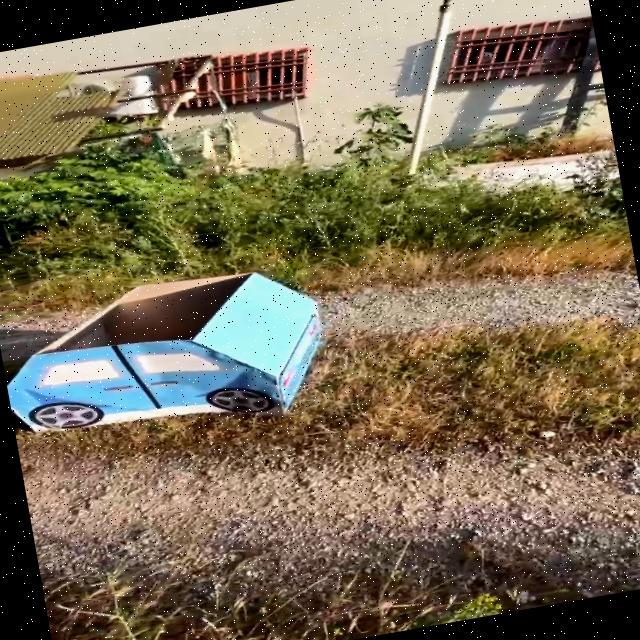blue_car: (0, 223, 390, 476)
